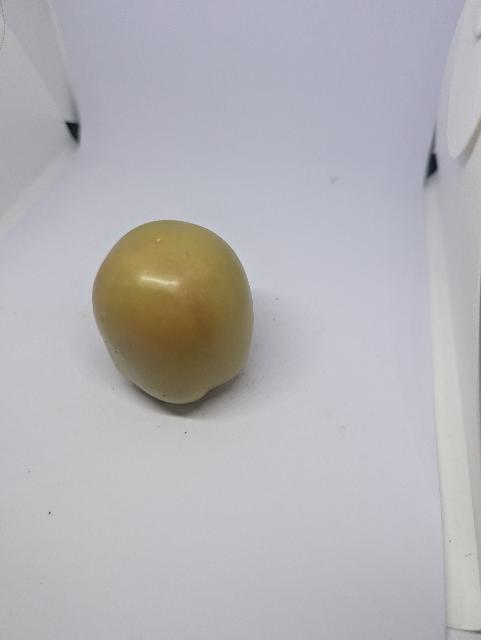breaker: (93, 220, 254, 403)
